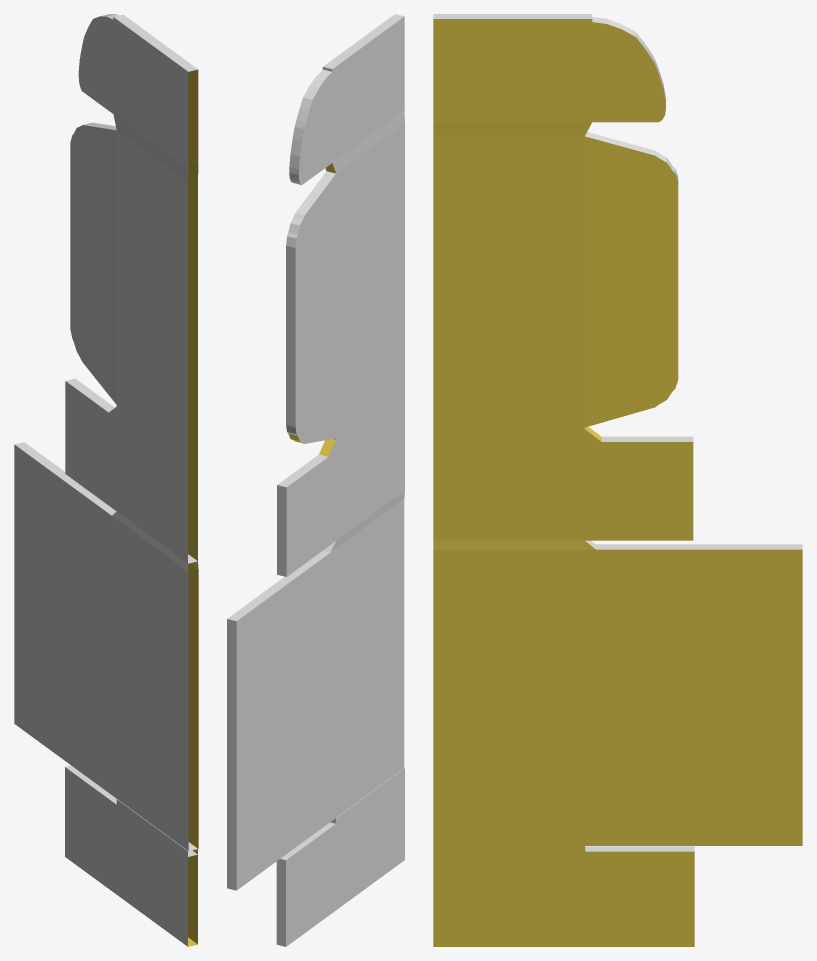
Rendered from CAJA.gltf.
The picture shows the model from 3 angles, left to right: view 1: azimuth 30°, elevation 25°; view 2: azimuth 150°, elevation 25°; view 3: azimuth 270°, elevation 25°; orthographic projection. The views are drawn at different scales.
Visible parts, largest first — view 1: Cube.003; view 2: Cube.003; view 3: Cube.003.
Boxes of the visible parts, box(x1,y1,x2,y2) form: Cube.003: box(14, 14, 198, 946); Cube.003: box(227, 14, 404, 946); Cube.003: box(433, 14, 802, 946).
Size of the model in its own units: 0.0578 by 3.84 by 1.38.
